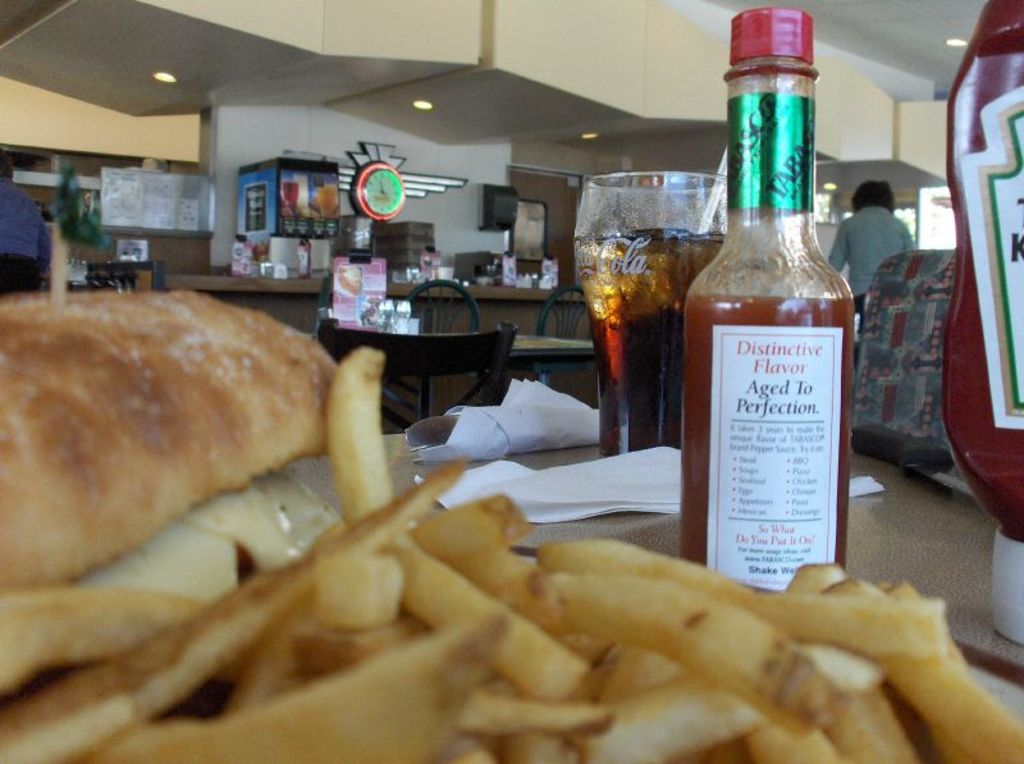French fries: (0, 348, 1022, 762)
